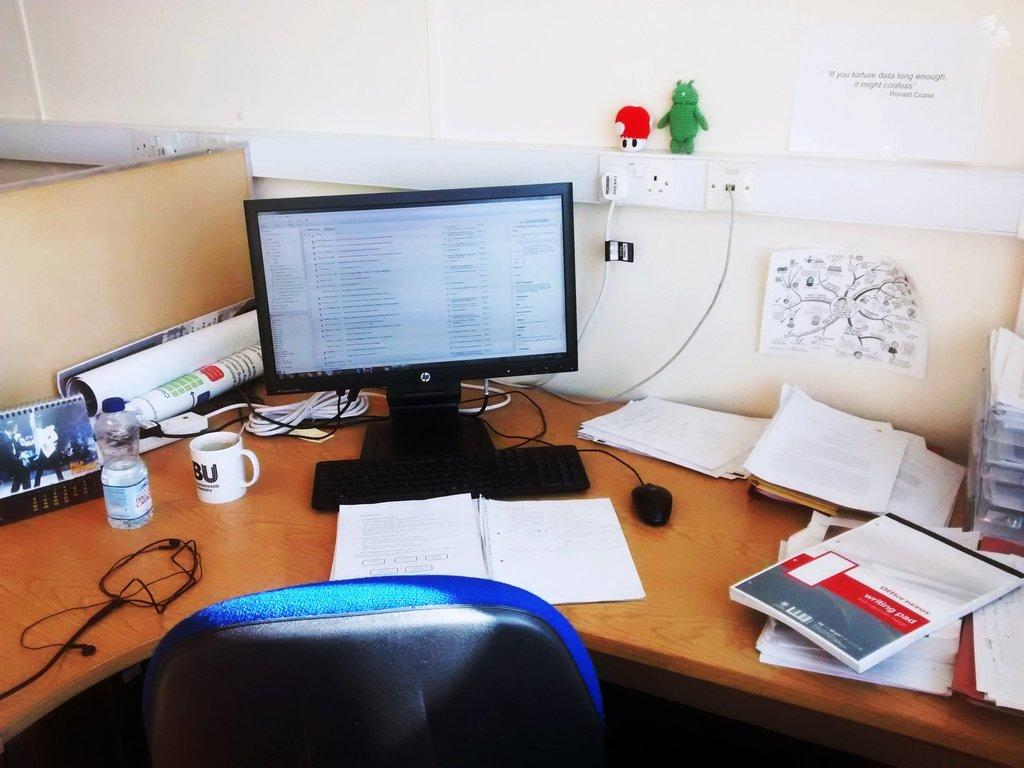Computer-keyboard: (307, 443, 592, 509)
Computer-monitor: (221, 181, 587, 449)
